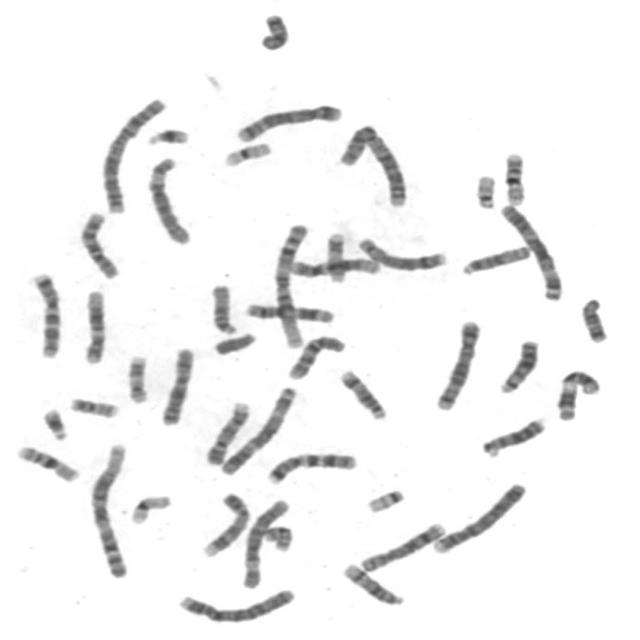A1: (84, 438, 134, 580), (270, 218, 312, 350)
A2: (96, 92, 170, 215), (334, 119, 412, 209)
A3: (215, 381, 300, 476), (494, 199, 568, 302)
B4: (429, 476, 530, 556), (172, 583, 299, 625)
B5: (431, 314, 484, 412), (232, 99, 346, 143)
C10: (74, 206, 123, 280), (283, 330, 349, 382)
C11: (552, 364, 604, 422), (240, 298, 338, 325)
C12: (284, 252, 384, 279), (78, 285, 109, 366)
C6: (237, 493, 294, 590), (142, 151, 195, 246)
C7: (262, 446, 361, 486), (26, 267, 66, 359)
C8: (355, 517, 449, 574), (352, 231, 451, 273)
C9: (198, 488, 254, 558), (201, 396, 254, 466)
D13: (477, 412, 549, 458), (494, 334, 542, 395)
D14: (338, 558, 408, 608), (335, 364, 390, 421)
D15: (458, 240, 536, 276), (205, 279, 240, 336)
E16: (11, 439, 83, 484), (499, 147, 530, 207)
E17: (122, 349, 152, 405), (321, 227, 350, 284)
E18: (576, 292, 612, 344), (255, 8, 292, 52)
F19: (219, 136, 276, 169), (125, 489, 175, 526)
F20: (65, 391, 122, 419), (260, 521, 298, 553)
G21: (140, 121, 192, 148), (37, 402, 72, 442)
G22: (362, 484, 409, 514), (471, 169, 500, 210)
X: (156, 342, 198, 427)
Y: (208, 327, 260, 357)
